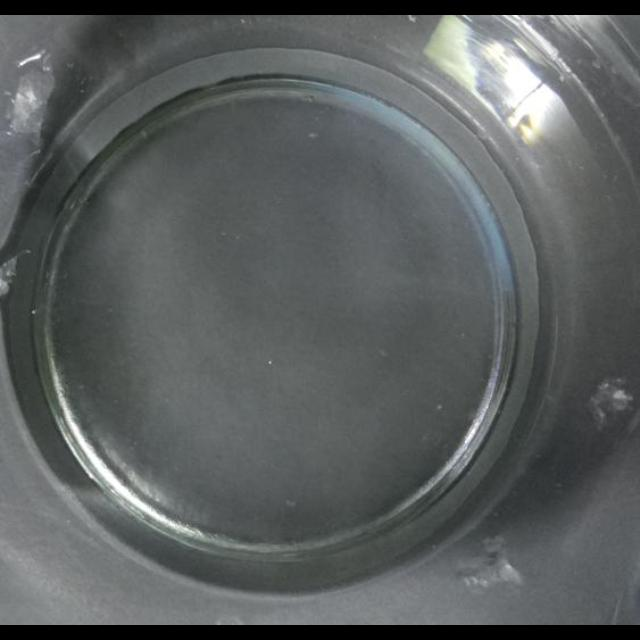Fibre: (456, 540, 524, 592), (8, 69, 52, 135), (591, 381, 635, 424), (1, 258, 22, 298)
